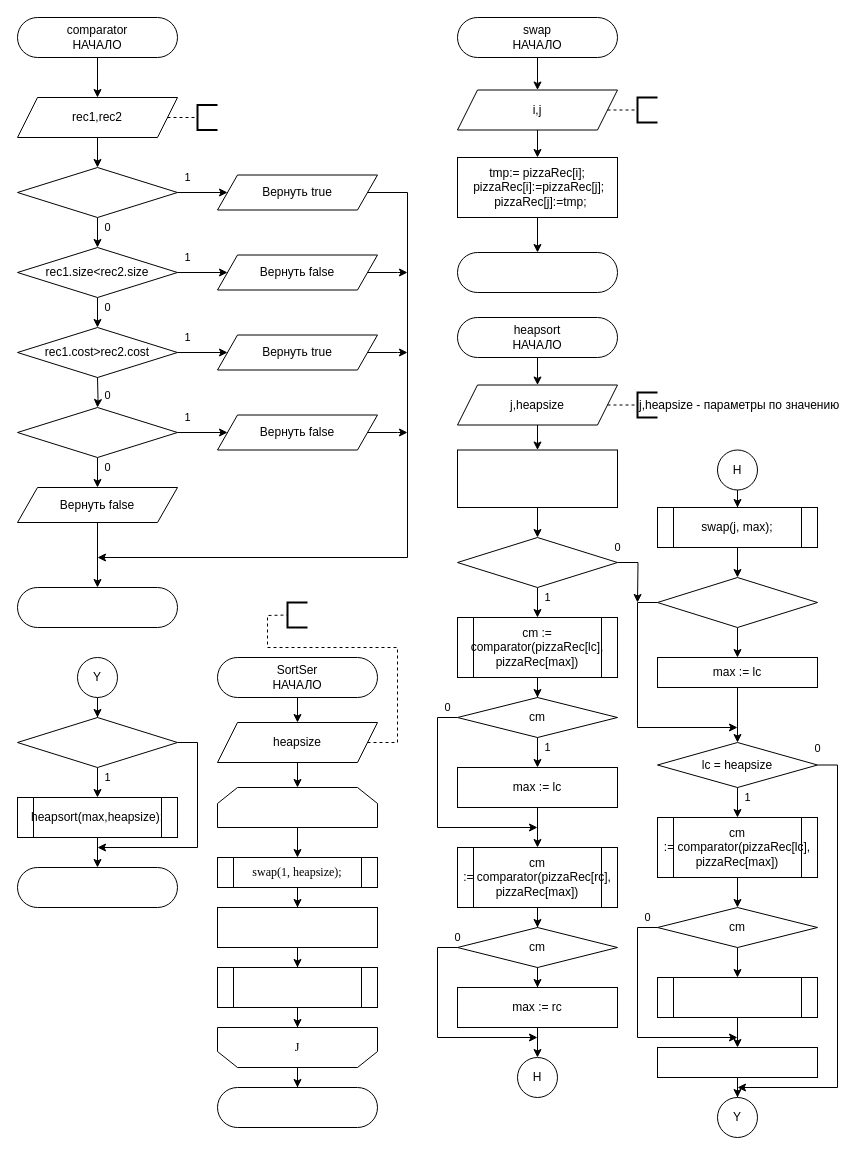
Some shapes in this 863 by 1155 pixel diagram are drawn without their labels. Here are the shapes that lost their labels. From the top down, the centre of each, then its label:
At pixel 207 117: "rec1,rec2 - параметры по значению".
At pixel 647 109: "i,j - параметры по значению".
At pixel 97 192: "rec1.size>rec2.size".
At pixel 537 272: "swap КОНЕЦ".
At pixel 97 432: "rec1.cost<rec2.cost".
At pixel 537 478: "lc := j * 2; rc := j *2 + 1; max := j;".
At pixel 537 562: "rc <= heapsize".
At pixel 97 607: "comparator КОНЕЦ".
At pixel 297 614: "heapsize - параметр по значению".
At pixel 737 602: "max = j".
At pixel 97 742: "max <= heapsize div 2".
At pixel 297 807: "J HeapSize = 0".
At pixel 97 887: "heapsort КОНЕЦ".
At pixel 297 927: "dec(heapsize);".
At pixel 297 987: "heapsort(1,heapsize);".
At pixel 737 997: "swap(lc, max);".
At pixel 737 1062: "max := lc;".
At pixel 297 1107: "SortSer КОНЕЦ".
